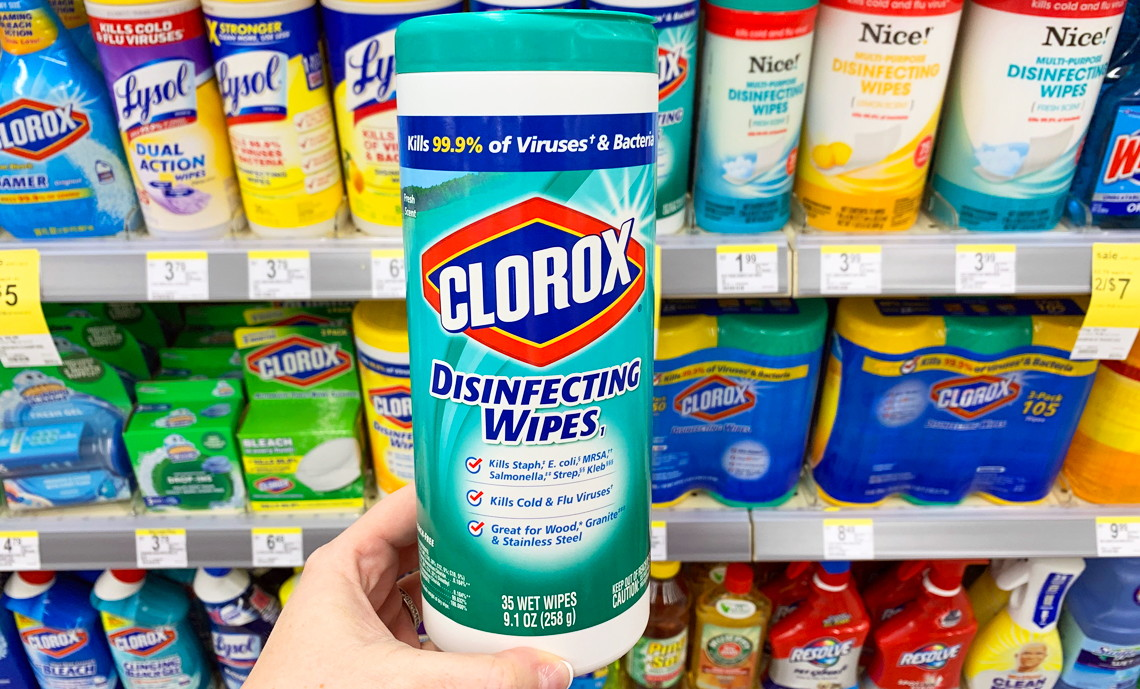Wipes: (385, 8, 666, 678), (315, 1, 490, 241), (79, 1, 242, 242), (195, 1, 354, 245), (794, 290, 929, 516), (700, 286, 834, 512), (967, 295, 1104, 513), (896, 293, 1030, 512), (580, 1, 693, 242), (347, 290, 437, 520), (642, 306, 724, 519)
